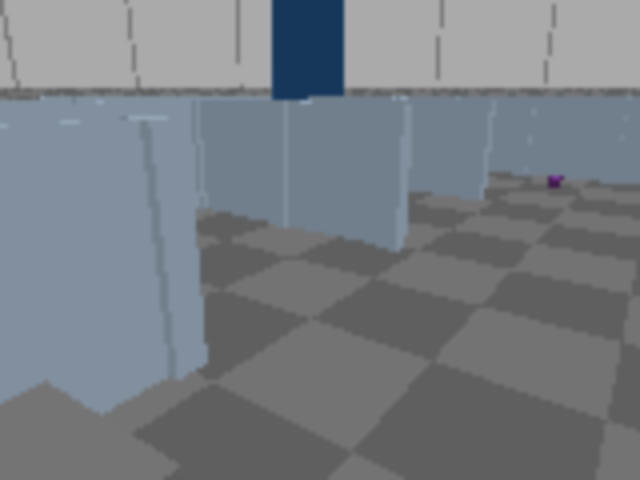obstacle: (0, 381, 199, 478)
